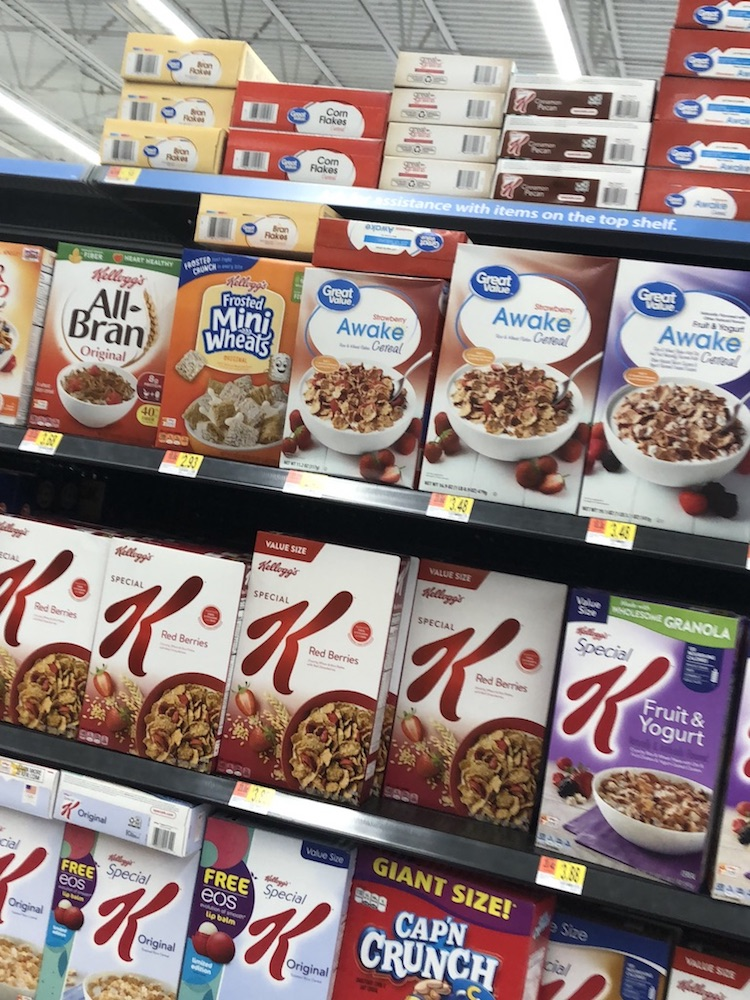Frosted Mini Original -9295869: (167, 241, 284, 467)
